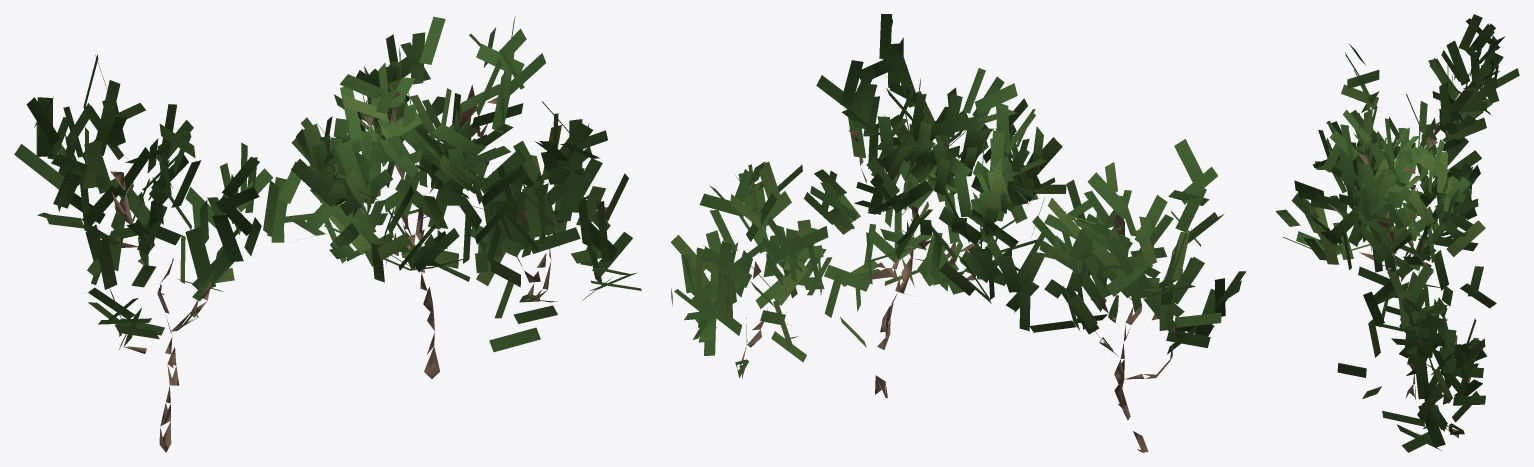
Rendered from arvores_trio_longe.glb.
The picture shows the model from 3 angles, left to right: view 1: azimuth 30°, elevation 25°; view 2: azimuth 150°, elevation 25°; view 3: azimuth 270°, elevation 25°; orthographic projection. The views are drawn at different scales.
Parts seen in each view (by area): view 1: arvores_trio_longe; view 2: arvores_trio_longe; view 3: arvores_trio_longe.
Part boxes in pixels (bbox=[...]): arvores_trio_longe: bbox=[14, 16, 641, 452]; arvores_trio_longe: bbox=[670, 14, 1246, 452]; arvores_trio_longe: bbox=[1275, 14, 1519, 452].
Bounding box in the file's own units: 2.86 × 1.79 × 1.35.
